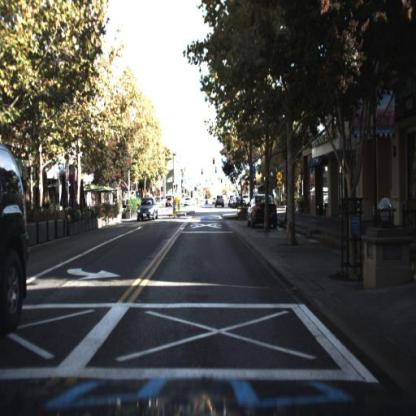car: (2, 140, 31, 345), (246, 196, 278, 232), (134, 194, 163, 226), (217, 193, 229, 214)
